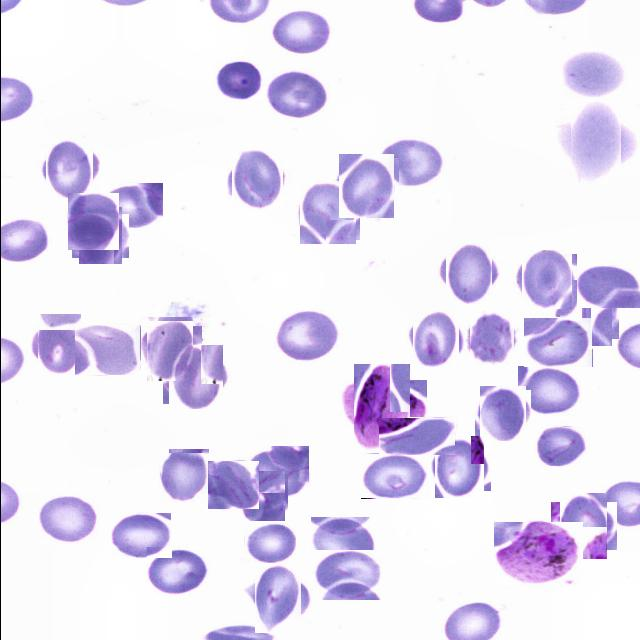difficult: (493, 522, 582, 586), (345, 372, 418, 445)
red blood cell: (562, 109, 629, 176), (272, 310, 340, 364), (164, 347, 224, 407), (297, 182, 357, 242), (336, 156, 396, 216), (554, 284, 614, 342), (523, 317, 592, 367), (376, 138, 444, 188), (313, 550, 381, 600), (310, 517, 375, 569), (248, 570, 306, 628), (558, 50, 628, 98), (146, 547, 210, 599), (74, 325, 140, 375), (554, 498, 612, 554), (265, 68, 328, 119), (517, 366, 581, 416), (248, 446, 308, 499), (360, 453, 429, 499), (228, 152, 284, 208), (141, 321, 196, 377), (431, 438, 486, 494), (518, 252, 574, 306), (41, 140, 96, 194), (38, 495, 97, 545), (378, 417, 455, 455), (32, 318, 86, 372), (441, 246, 495, 300), (67, 193, 118, 250), (110, 512, 171, 558), (100, 183, 162, 228), (271, 10, 331, 56), (158, 450, 210, 502), (409, 312, 461, 364), (576, 266, 640, 308), (74, 210, 124, 262), (476, 388, 527, 438), (466, 314, 516, 364), (207, 461, 258, 509), (238, 472, 286, 520), (244, 521, 296, 565), (533, 426, 588, 466), (214, 60, 262, 100)
